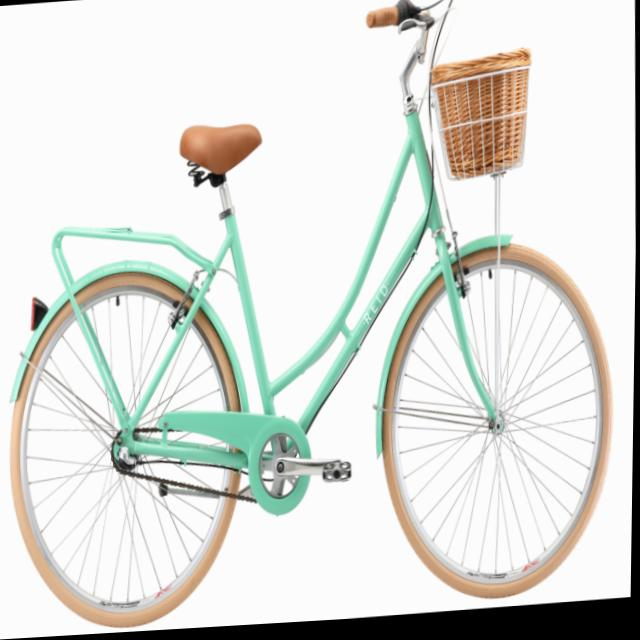urban-bike: (1, 0, 624, 637)
